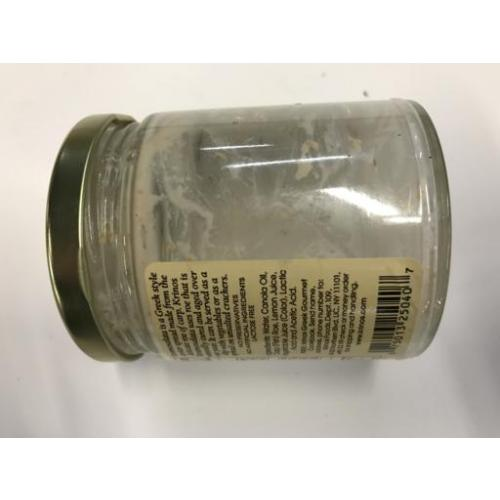glass: (58, 101, 444, 365)
